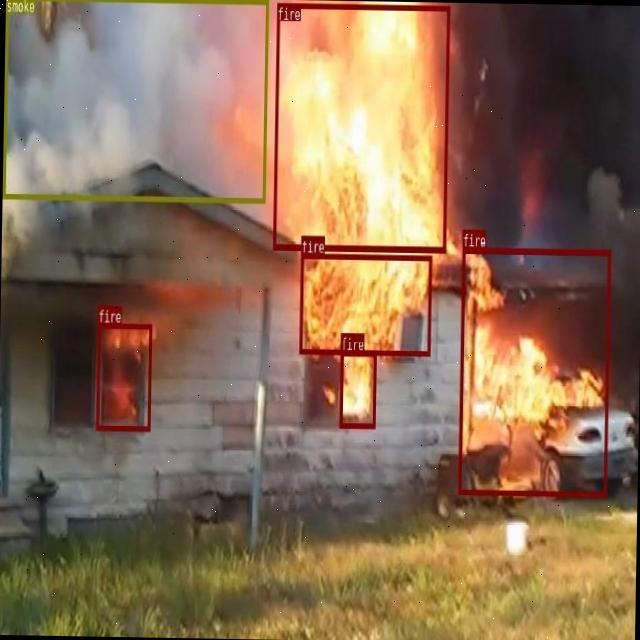fire: (272, 2, 448, 251), (457, 247, 610, 496), (298, 253, 432, 354), (95, 323, 151, 431), (340, 349, 376, 427)
smoke: (2, 0, 267, 201)
